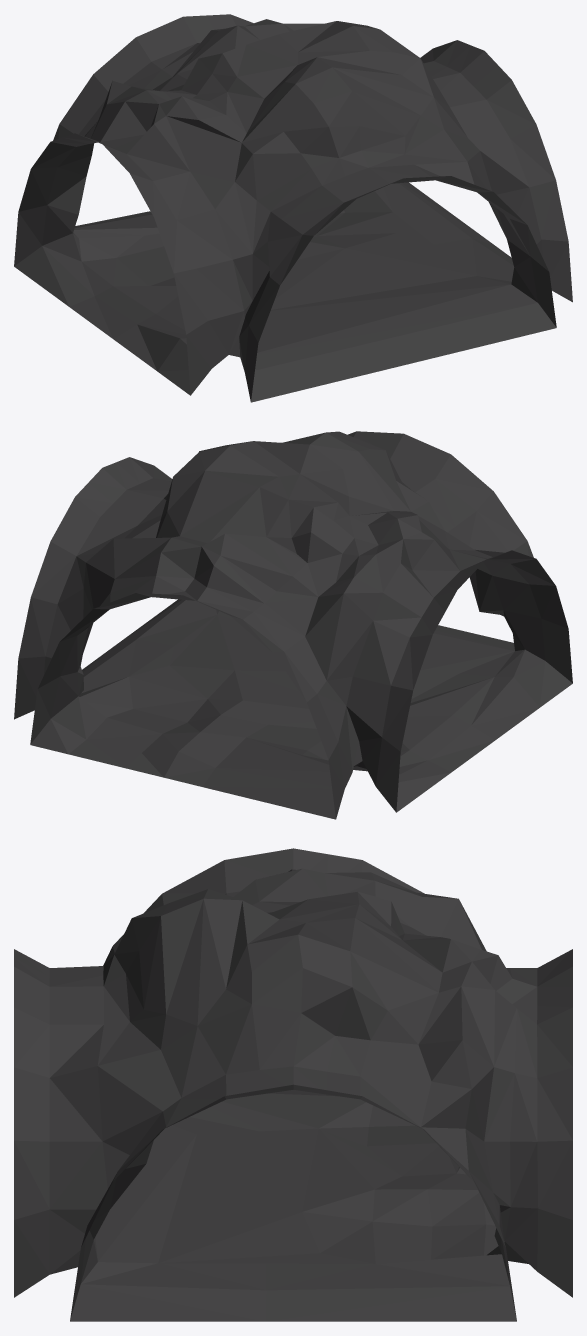
Rendered from Cave_5A_Intersection_LOD_1.fbx.
3 views of the same model, one above another, from view 1: azimuth 30°, elevation 25°; view 2: azimuth 150°, elevation 25°; view 3: azimuth 270°, elevation 25° (orthographic). The views are drawn at different scales.
Visible parts, largest first — view 1: polySurface1; view 2: polySurface1; view 3: polySurface1.
Boxes of the visible parts, x1,y1,x2,y2 form: polySurface1: (14,14,572,402); polySurface1: (14,431,572,819); polySurface1: (14,848,572,1321).
Size of the model in its own units: 10.32 by 6.25 by 10.32.
